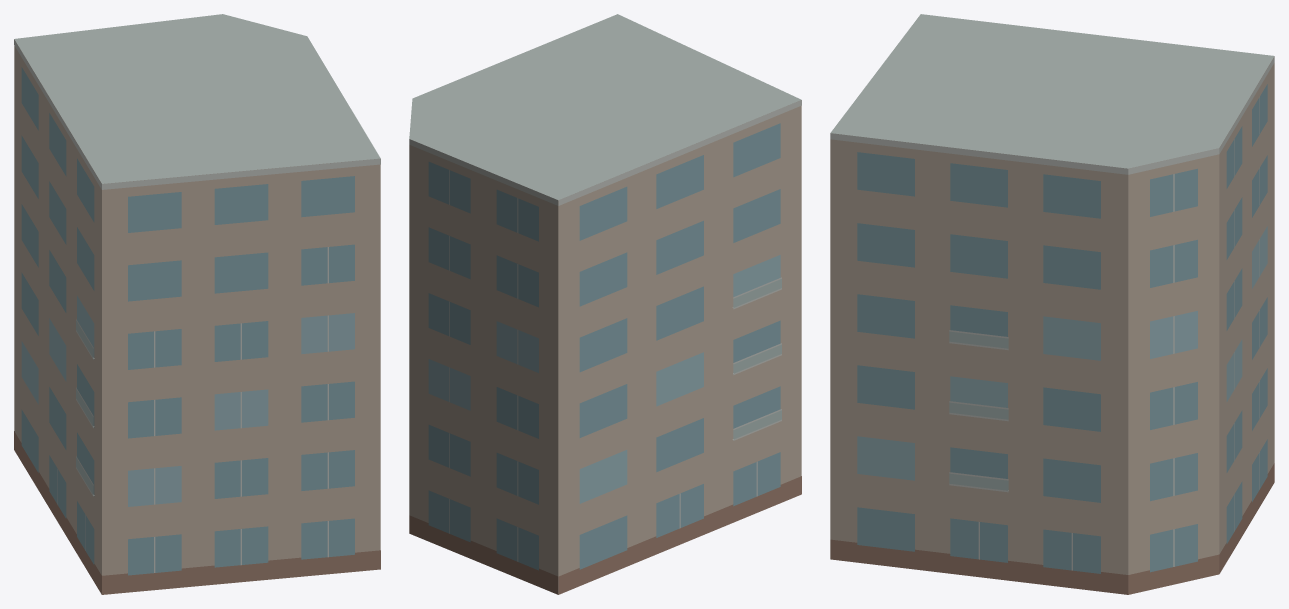
The model's file is survey-upis-32877713.glb.
The picture shows the model from 3 angles, left to right: view 1: azimuth 30°, elevation 25°; view 2: azimuth 150°, elevation 25°; view 3: azimuth 270°, elevation 25°; orthographic projection. The views are drawn at different scales.
Visible parts, largest first — view 1: survey-upis-32877713.tmp; view 2: survey-upis-32877713.tmp; view 3: survey-upis-32877713.tmp.
Part boxes in pixels (bbox=[...]): survey-upis-32877713.tmp: bbox=[14, 14, 380, 594]; survey-upis-32877713.tmp: bbox=[409, 14, 801, 594]; survey-upis-32877713.tmp: bbox=[830, 14, 1274, 594].
Size of the model in its own units: 13 by 16.7 by 15.79.
